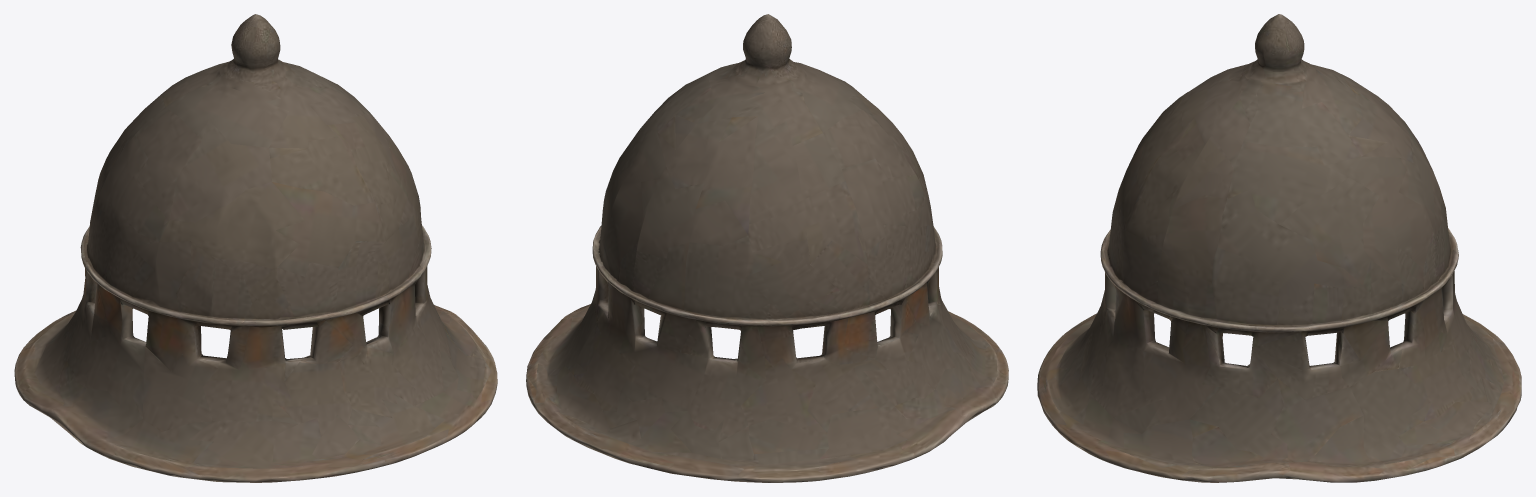
File: kettlehelm.glb
3 views of the same model, side by side, from view 1: azimuth 30°, elevation 25°; view 2: azimuth 150°, elevation 25°; view 3: azimuth 270°, elevation 25° (orthographic).
Visible parts, largest first — view 1: Mesh_0; view 2: Mesh_0; view 3: Mesh_0.
Boxes of the visible parts, left/top/right/bottom form: Mesh_0: left=14, top=14, right=497, bottom=482; Mesh_0: left=526, top=14, right=1008, bottom=482; Mesh_0: left=1037, top=14, right=1521, bottom=482.
Size of the model in its own units: 1.87 by 1.62 by 1.9.
Materials: 1 (1 with a texture image).
